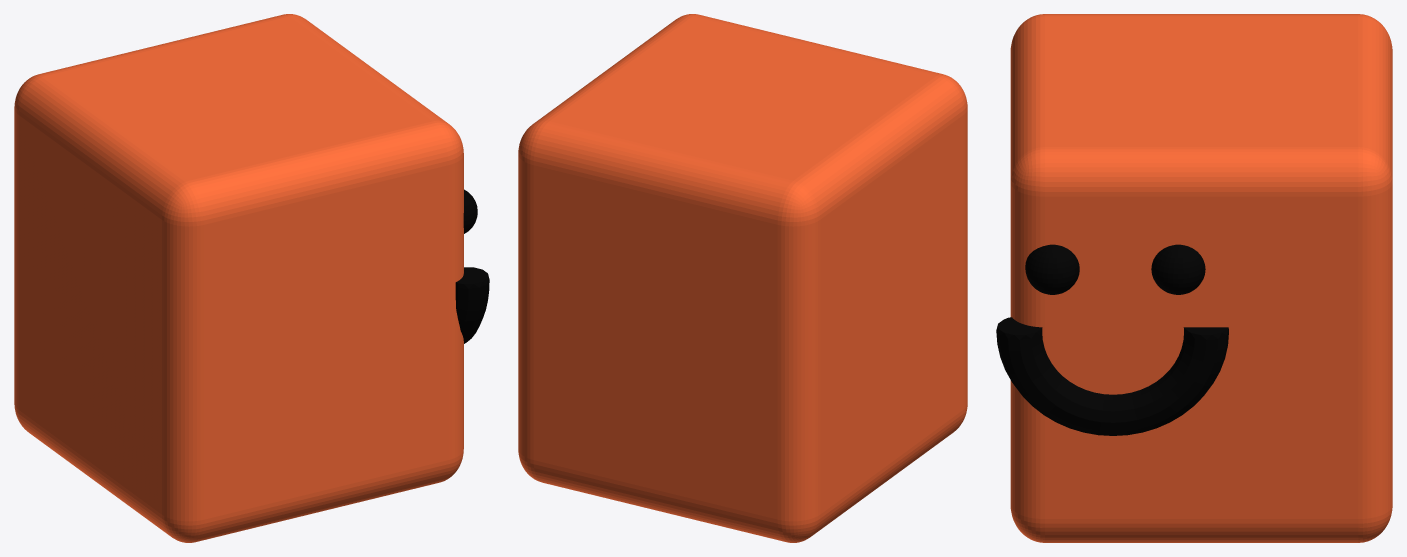
File: Chracter_Orange.glb
3 views of the same model, side by side, from view 1: azimuth 30°, elevation 25°; view 2: azimuth 150°, elevation 25°; view 3: azimuth 270°, elevation 25° (orthographic). The views are drawn at different scales.
Parts seen in each view (by area): view 1: Chracter_Orange; view 2: Chracter_Orange; view 3: Chracter_Orange.
Part boxes in pixels (x1,y1,x2,y2): Chracter_Orange: (14,14,489,542); Chracter_Orange: (518,14,967,542); Chracter_Orange: (996,14,1392,542).
Size of the model in its own units: 1.84 by 2 by 1.83.
